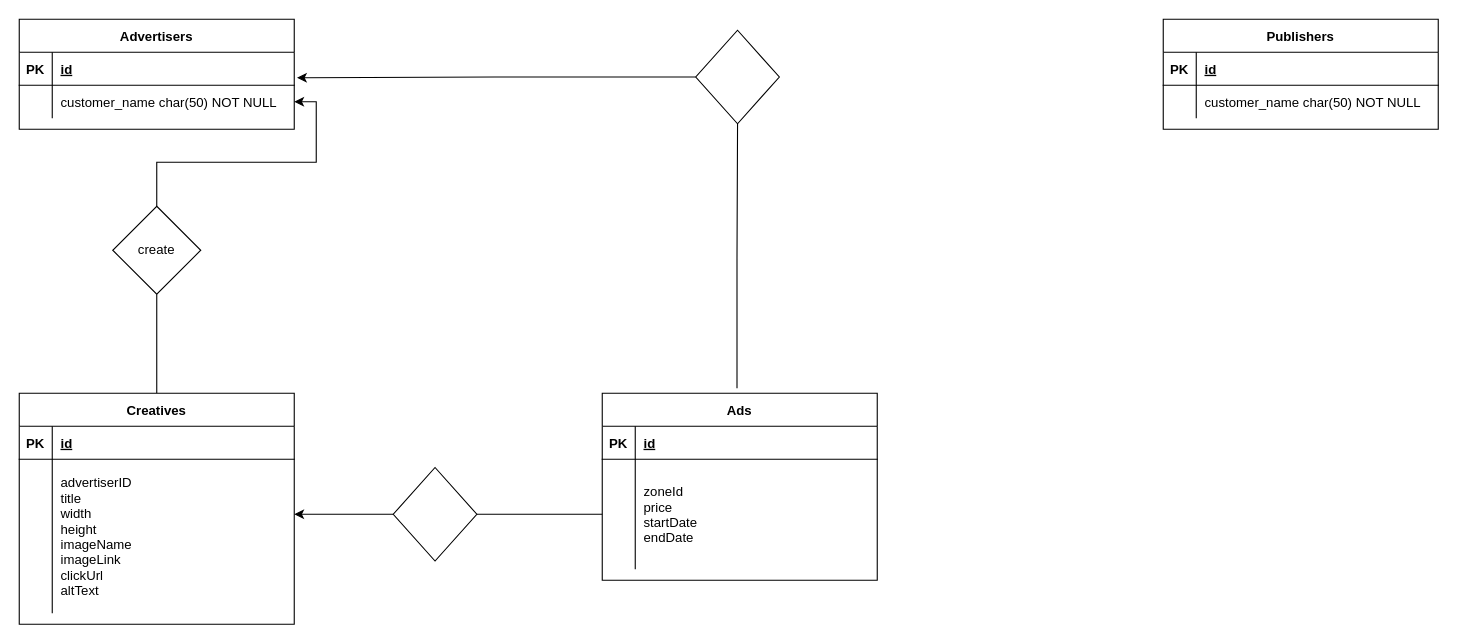
Image size: 1458x644. Some labels were removed from this diagram. The centre of each missing label's shape, as x and y in pixels:
include: point (434, 513)
run: point (737, 76)
